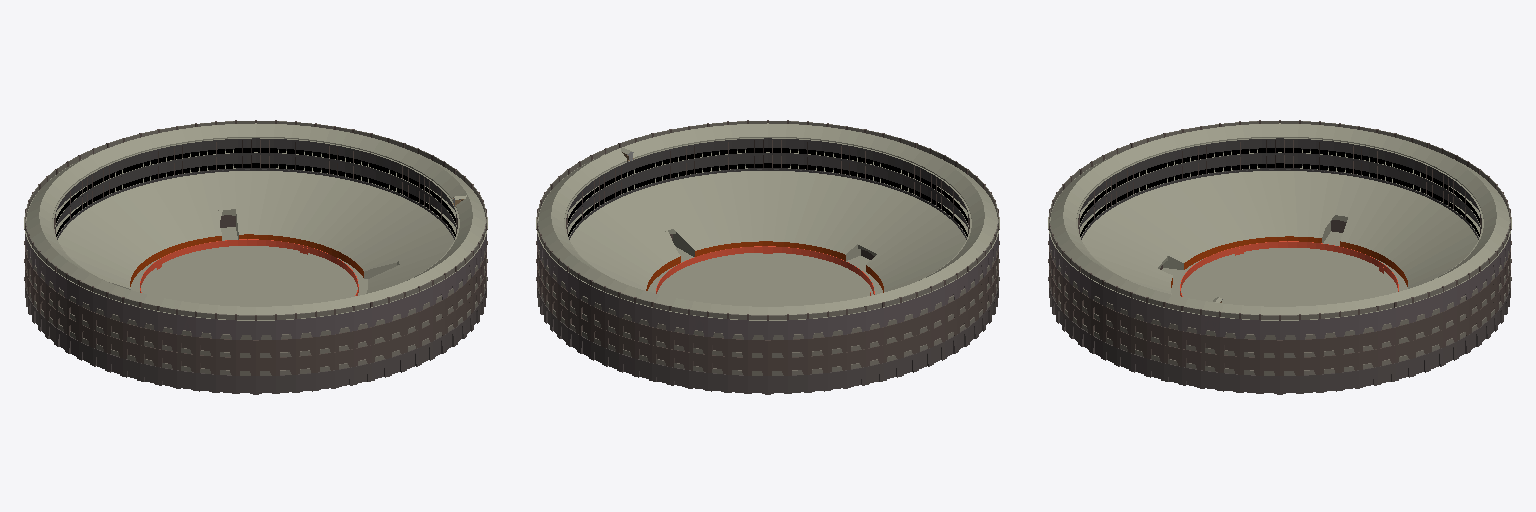
The model's file is coliseu.obj.
3 views of the same model, side by side, from view 1: azimuth 30°, elevation 25°; view 2: azimuth 150°, elevation 25°; view 3: azimuth 270°, elevation 25° (orthographic).
Visible parts, largest first — view 1: Mesh6 Group2 Group1 Model, Mesh1 Group3 Group2 Group1 Model; view 2: Mesh6 Group2 Group1 Model, Mesh1 Group3 Group2 Group1 Model; view 3: Mesh6 Group2 Group1 Model, Mesh1 Group3 Group2 Group1 Model.
Part boxes in pixels (bbox=[...]): Mesh6 Group2 Group1 Model: bbox=[58, 171, 453, 306]; Mesh1 Group3 Group2 Group1 Model: bbox=[140, 239, 358, 295]; Mesh6 Group2 Group1 Model: bbox=[570, 171, 965, 306]; Mesh1 Group3 Group2 Group1 Model: bbox=[656, 246, 874, 294]; Mesh6 Group2 Group1 Model: bbox=[1082, 171, 1477, 306]; Mesh1 Group3 Group2 Group1 Model: bbox=[1180, 241, 1398, 296].
Size of the model in its own units: 96.75 by 18.79 by 96.75.